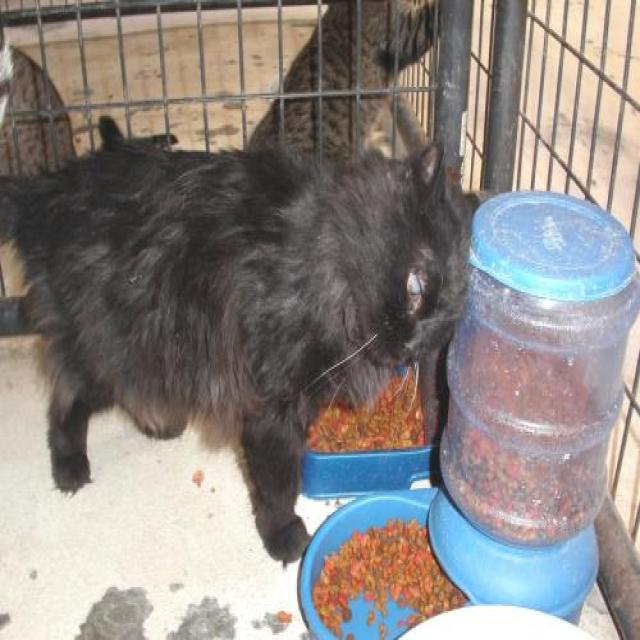Cats: (0, 112, 495, 565), (244, 0, 442, 166)
